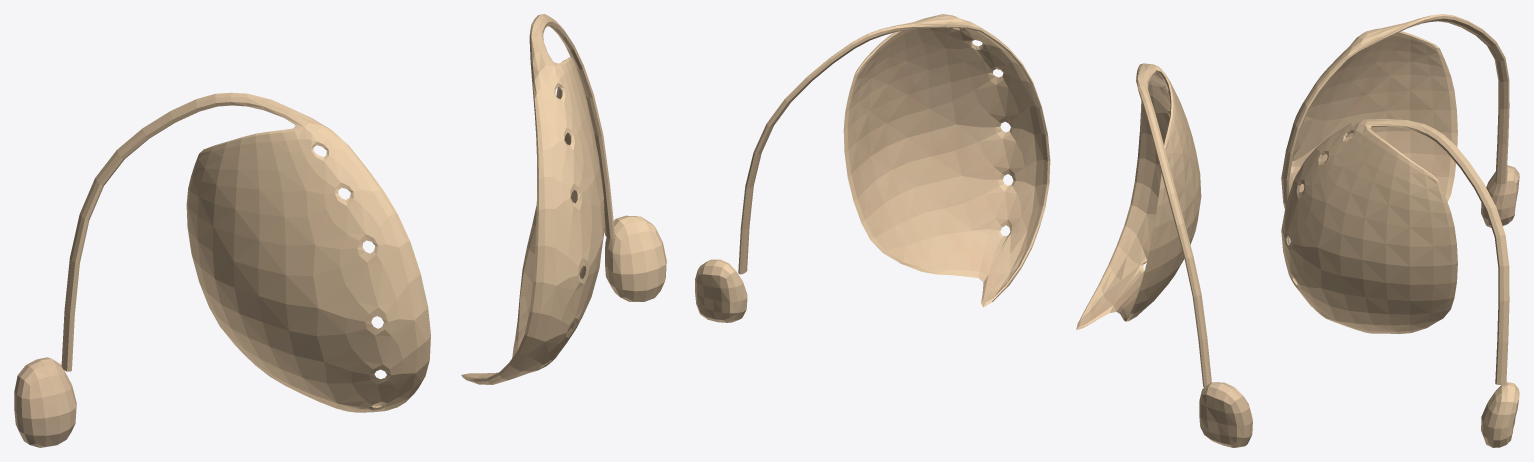
The model's file is thalamus.obj.
3 renders of one model, left to right at view 1: azimuth 30°, elevation 25°; view 2: azimuth 150°, elevation 25°; view 3: azimuth 270°, elevation 25°, orthographic. The views are drawn at different scales.
Bounding box in the file's own units: 4.12 × 2.12 × 1.73.
Materials: 1 (1 with a texture image).
